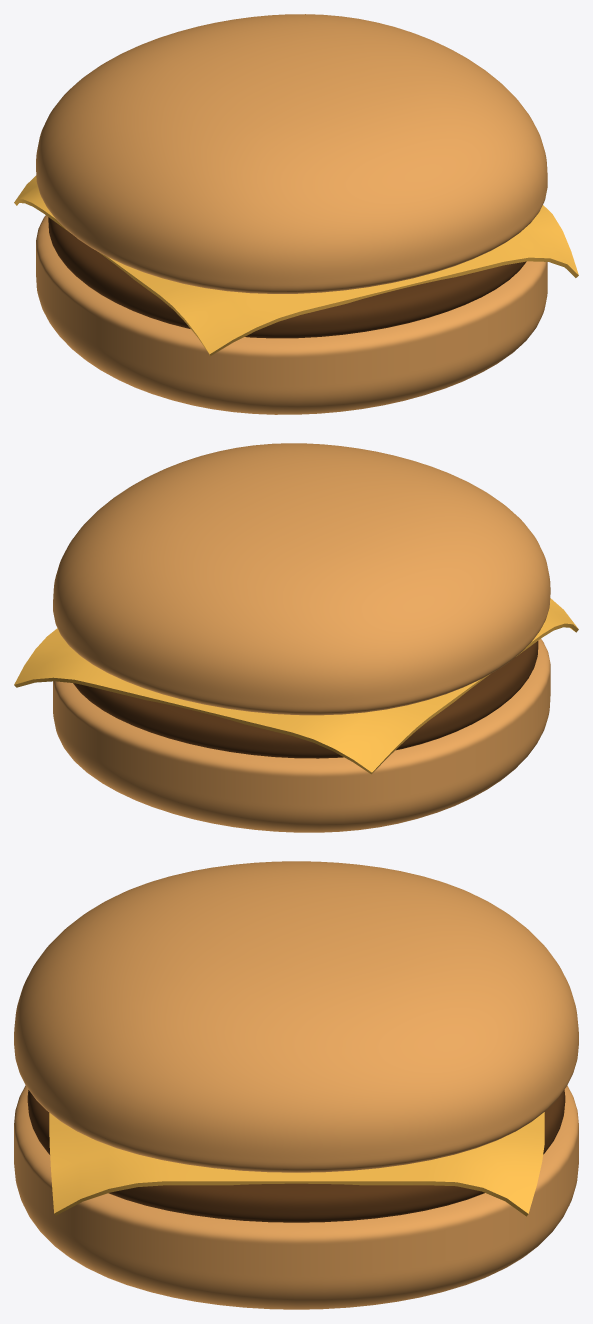
The model's file is hamburger.glb.
3 renders of one model, top to bottom at view 1: azimuth 30°, elevation 25°; view 2: azimuth 150°, elevation 25°; view 3: azimuth 270°, elevation 25°, orthographic. The views are drawn at different scales.
Parts seen in each view (by area): view 1: Cube.001, Cube, Plane, Cube.002; view 2: Cube.001, Cube, Plane, Cube.002; view 3: Cube.001, Cube, Plane, Cube.002.
Part boxes in pixels (left/top/right/bottom): Cube.001: left=36, top=14, right=547, bottom=293; Cube: left=36, top=215, right=547, bottom=414; Plane: left=14, top=175, right=578, bottom=355; Cube.002: left=48, top=217, right=526, bottom=338; Cube.001: left=53, top=443, right=550, bottom=715; Cube: left=53, top=639, right=550, bottom=832; Plane: left=14, top=598, right=578, bottom=774; Cube.002: left=73, top=641, right=538, bottom=758; Cube.001: left=14, top=861, right=578, bottom=1172; Cube: left=14, top=1085, right=578, bottom=1309; Plane: left=49, top=1112, right=544, bottom=1216; Cube.002: left=27, top=1090, right=565, bottom=1222.
Size of the model in its own units: 9.17 by 5.63 by 9.17.
